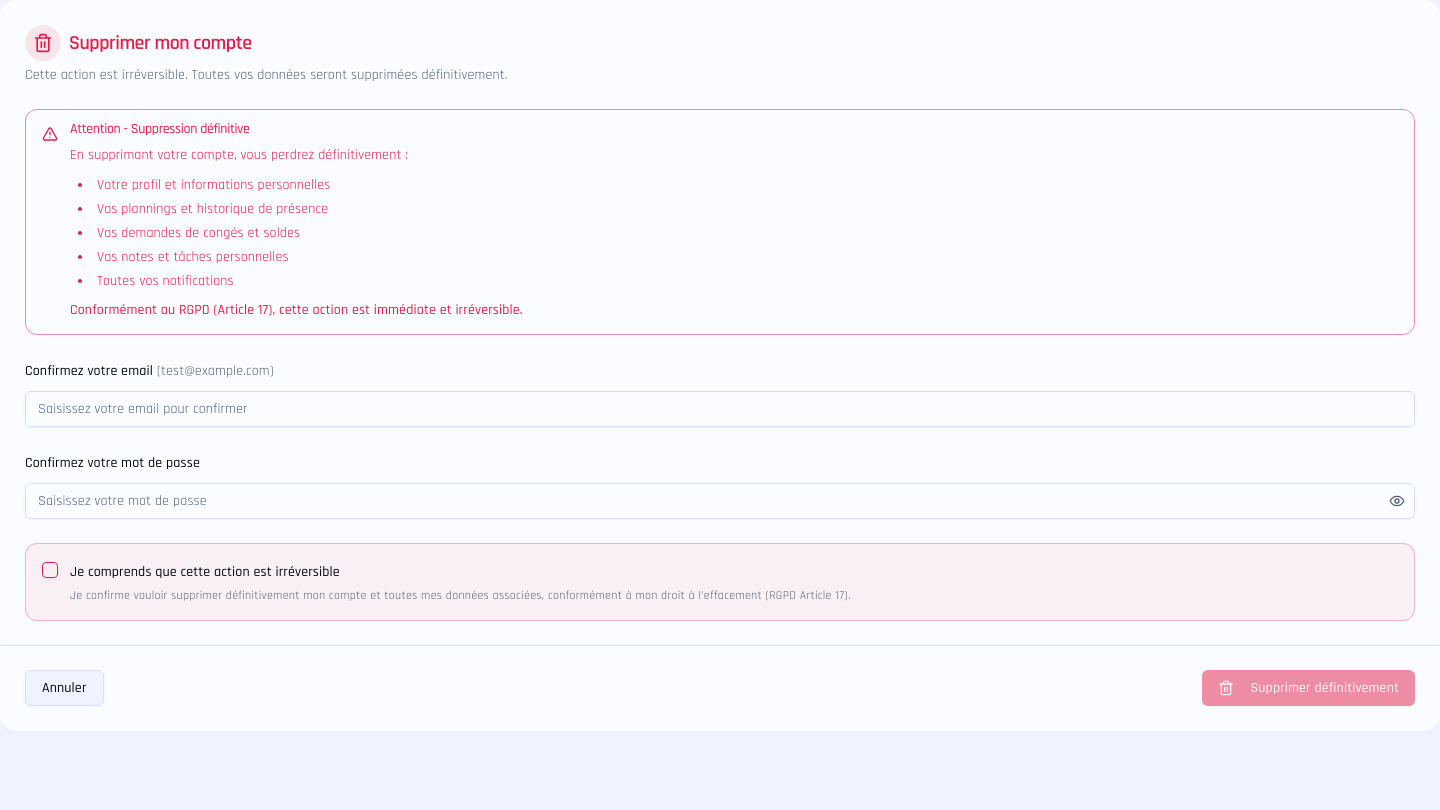
Scenario: DeleteAccountForm › Validation côté client › should show error when email format is invalid
The image size is (1440, 810).
In the field with test id "confirm-email-input": coordinates (720, 408) [25,390,1415,426], type "invalid-email"
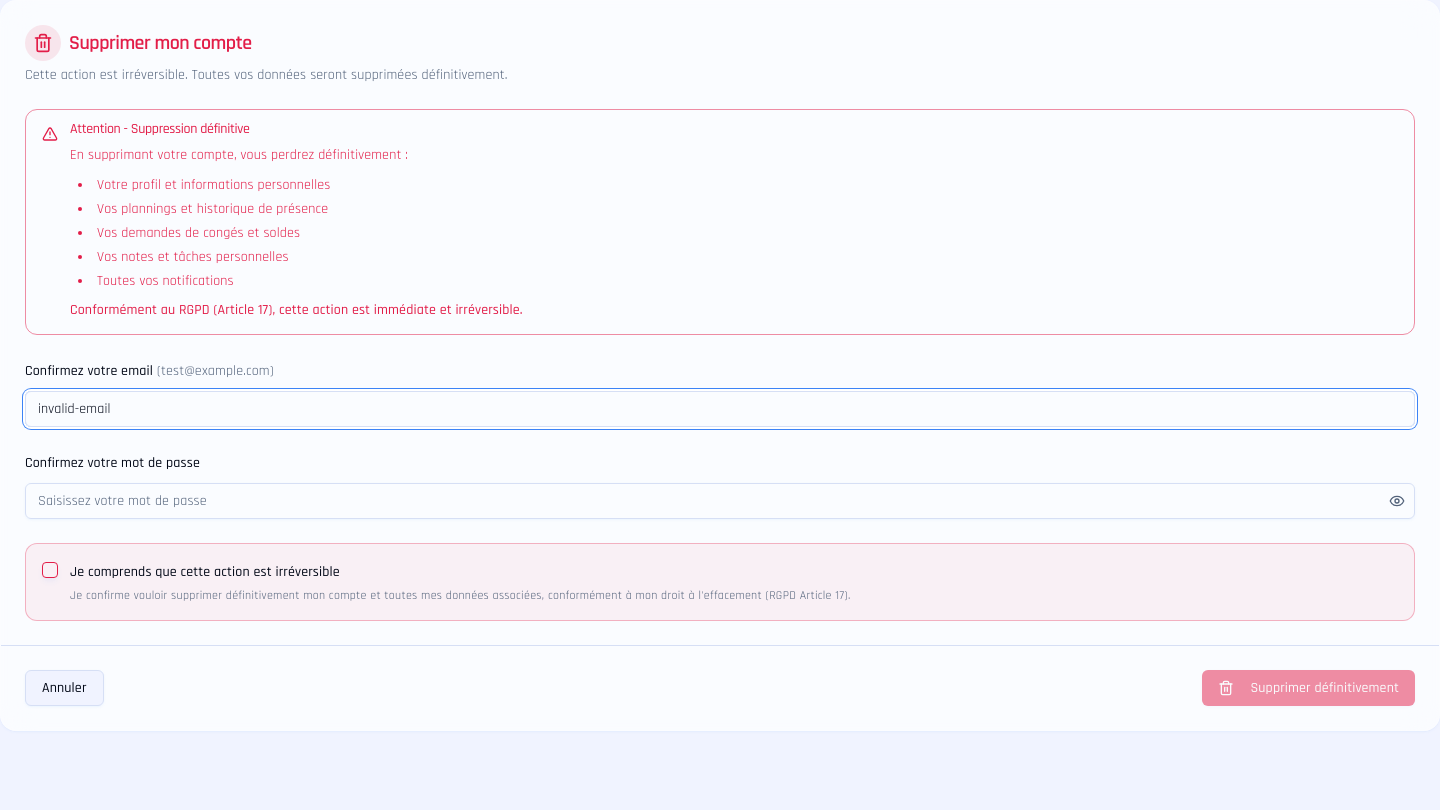
In the password field with test id "password-input": coordinates (720, 500) [25,482,1415,518], type "ValidP@ss123"
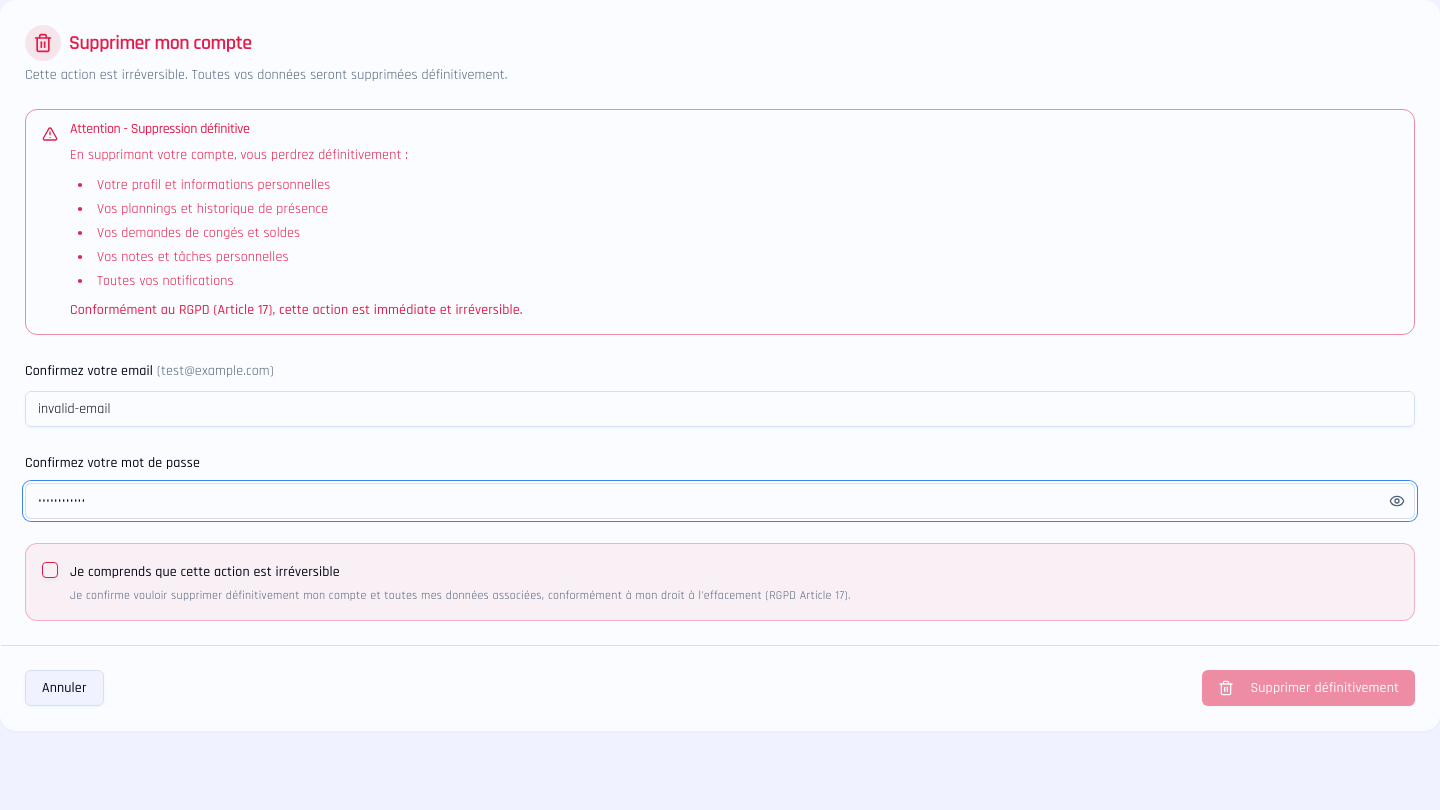
Click the checkbox with test id "confirm-deletion-checkbox": coordinates (50, 570) [42,562,58,578]
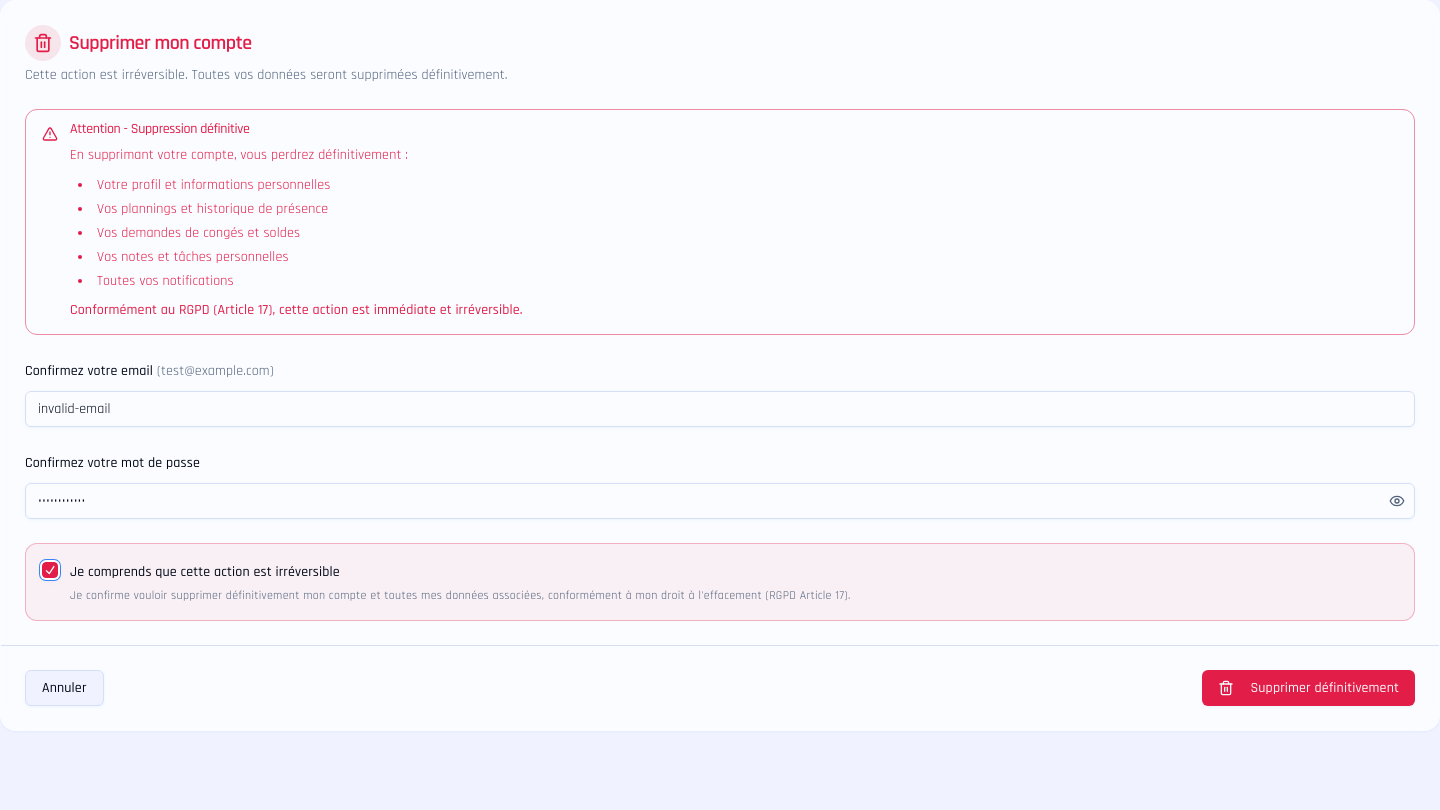
Click the button with test id "delete-account-button": coordinates (1309, 688) [1202,670,1415,706]
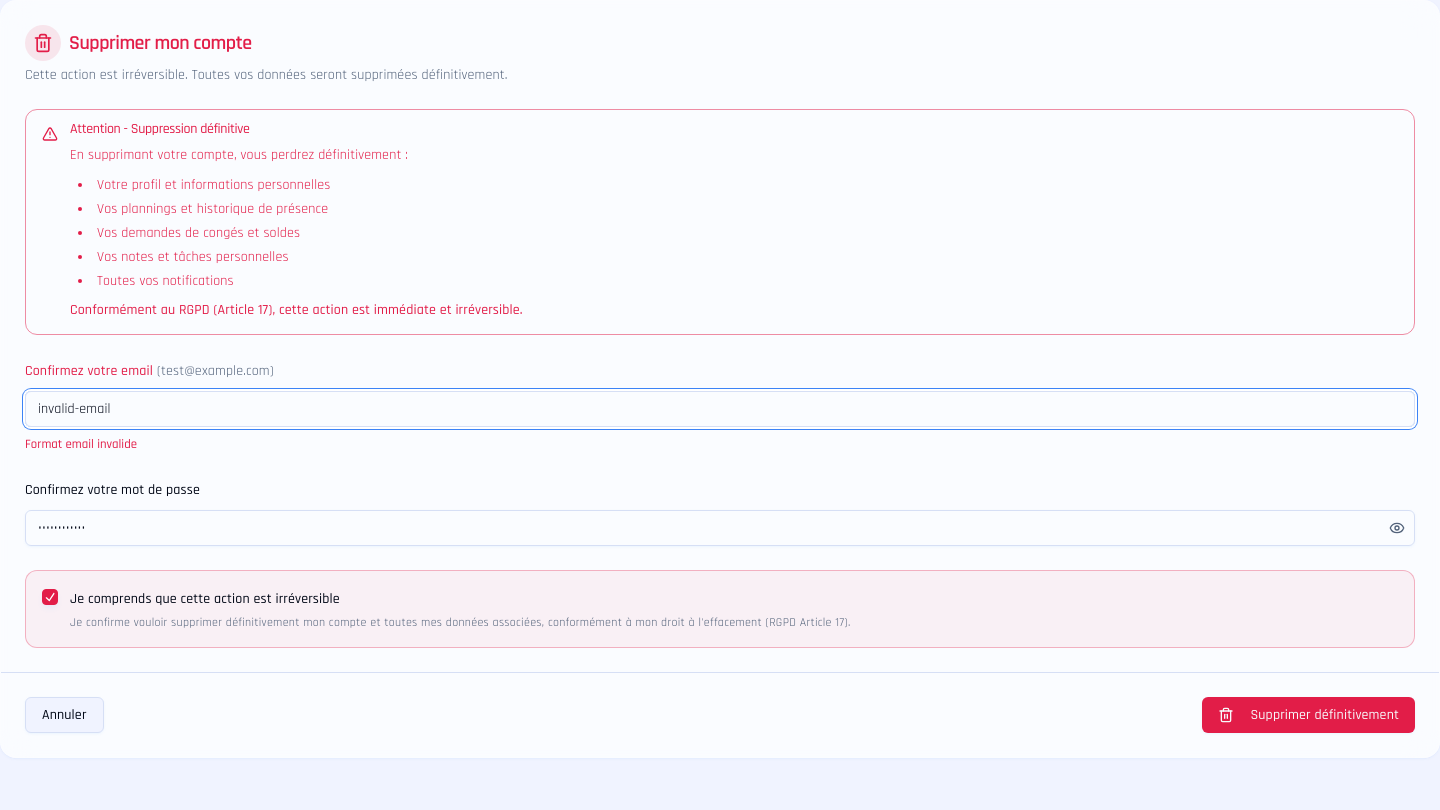
Check: the text "Format email invalide" is shown, box [25,436,137,452]
